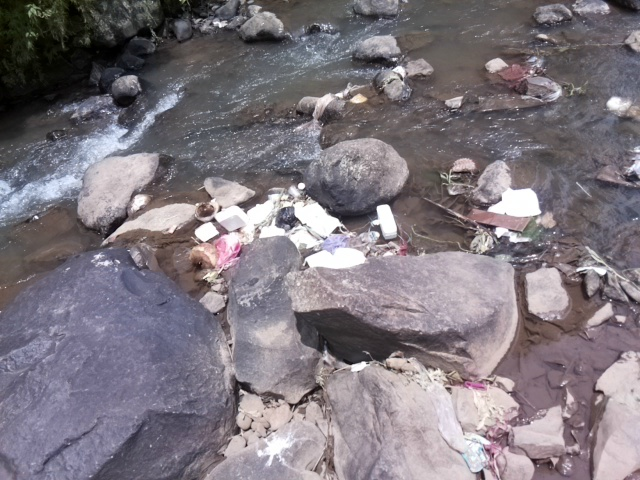Sampah_Plastik: (211, 232, 243, 273), (275, 205, 299, 231), (318, 234, 351, 251)
Sampah_Styrofoam: (295, 195, 345, 235), (490, 185, 545, 221), (246, 193, 283, 239), (298, 250, 372, 270), (372, 201, 400, 243), (210, 205, 255, 228), (192, 222, 220, 241)
